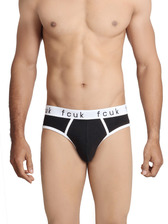clothoes: (37, 103, 138, 167)
